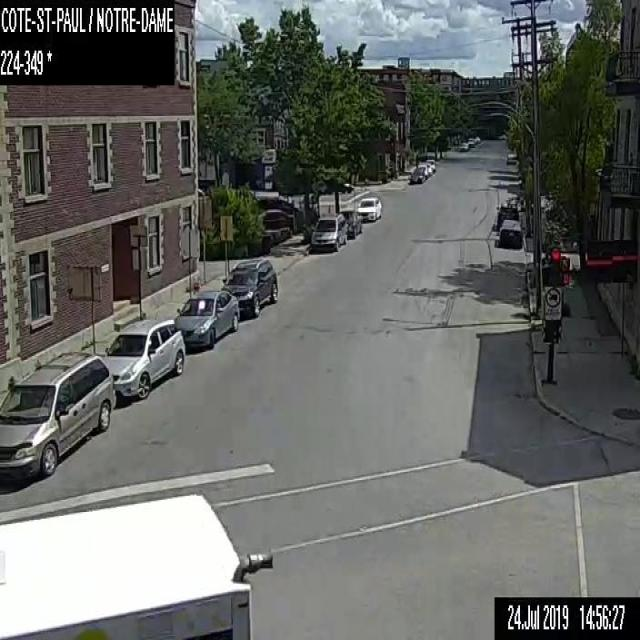bus: (0, 492, 272, 639)
vehicle: (0, 351, 113, 481), (106, 318, 184, 399), (173, 289, 239, 349), (220, 258, 278, 316), (310, 213, 348, 252), (256, 196, 302, 217), (498, 218, 522, 249), (356, 196, 381, 221), (339, 210, 361, 238), (495, 202, 518, 228), (259, 209, 290, 228), (410, 166, 425, 183), (336, 180, 354, 193), (417, 164, 427, 177), (506, 152, 516, 164), (426, 158, 435, 170), (459, 142, 468, 150), (425, 163, 431, 173), (467, 138, 473, 146), (474, 136, 479, 142), (0, 634, 2, 638)
